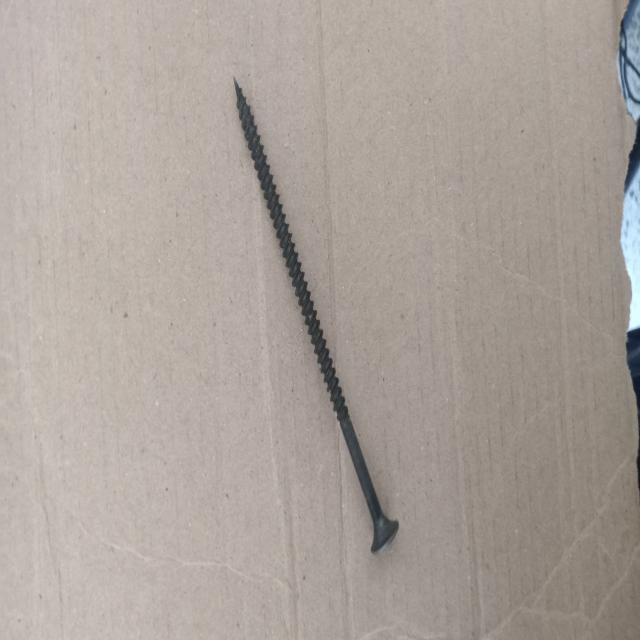screw: (232, 74, 400, 554)
